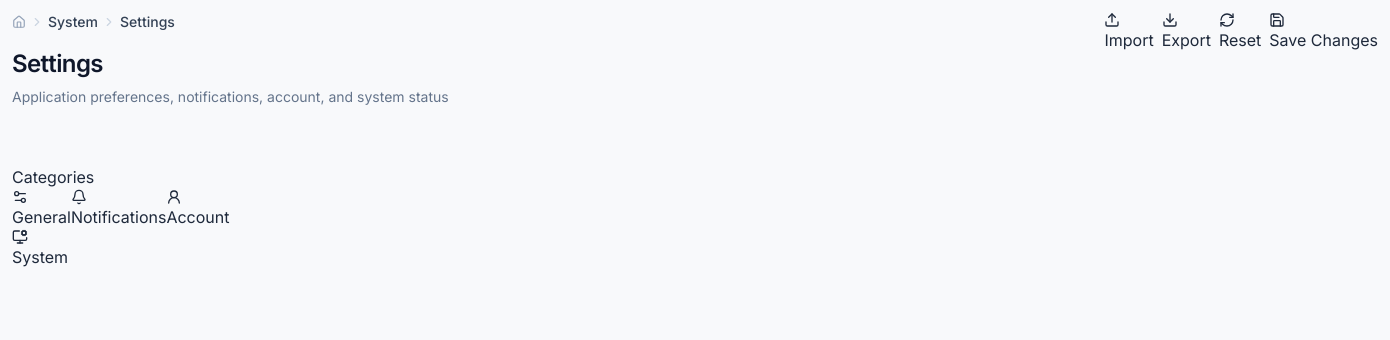
Test: SettingsPage notifications › disables child toggles when master notifications are off
The width and height of the screenshot is (1390, 340).
Click the button "Notifications": (119, 209) x1=71 y1=189 x2=166 y2=229
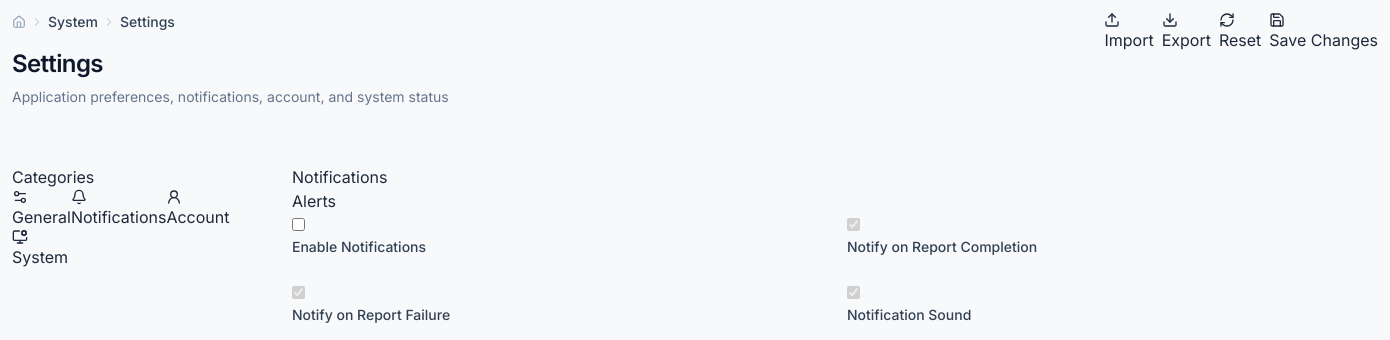
expect the checkbox labelled "Notify on Report Completion" is disabled: met, box x1=847 y1=218 x2=860 y2=231
expect the checkbox labelled "Notify on Report Failure" is disabled: met, box x1=292 y1=286 x2=305 y2=299
expect the checkbox labelled "Notification Sound" is disabled: met, box x1=847 y1=286 x2=860 y2=299
